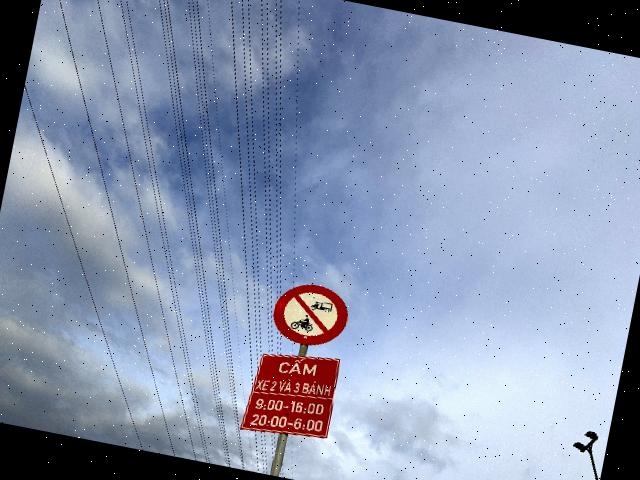cam-xe-2-banh-3-banh: (268, 277, 352, 352)
